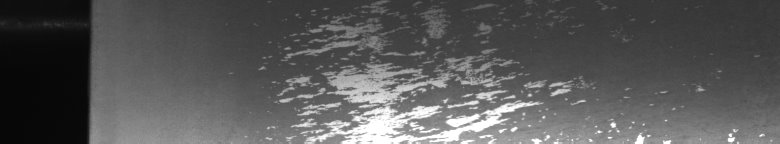kb: (259, 6, 765, 136)
